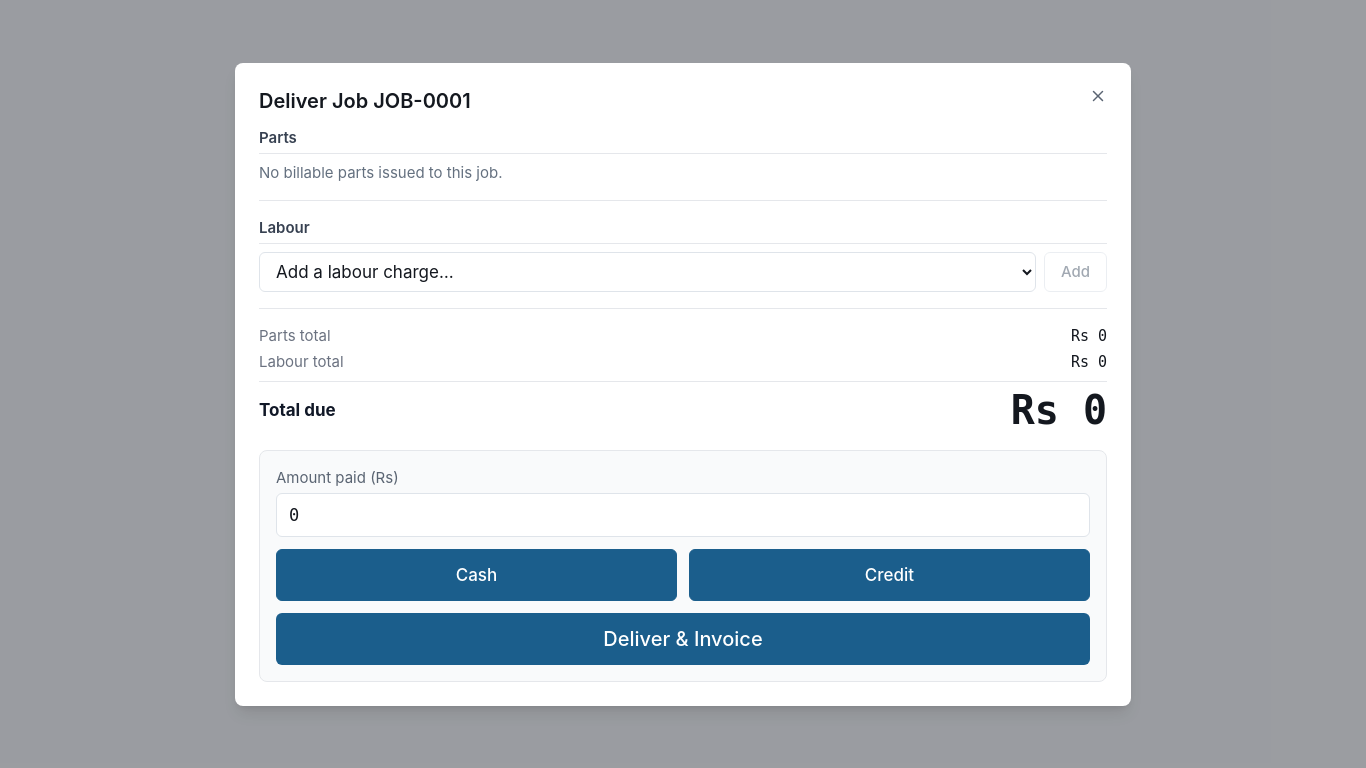
JobDeliveryModal (F3) › adding two labour charges shows both lines and the Labour total reflects both; removing one updates the total
Select "AC Installation — Rs 1,500" in the dropdown named "Add labour charge": point(647, 272) [259,252,1036,292]
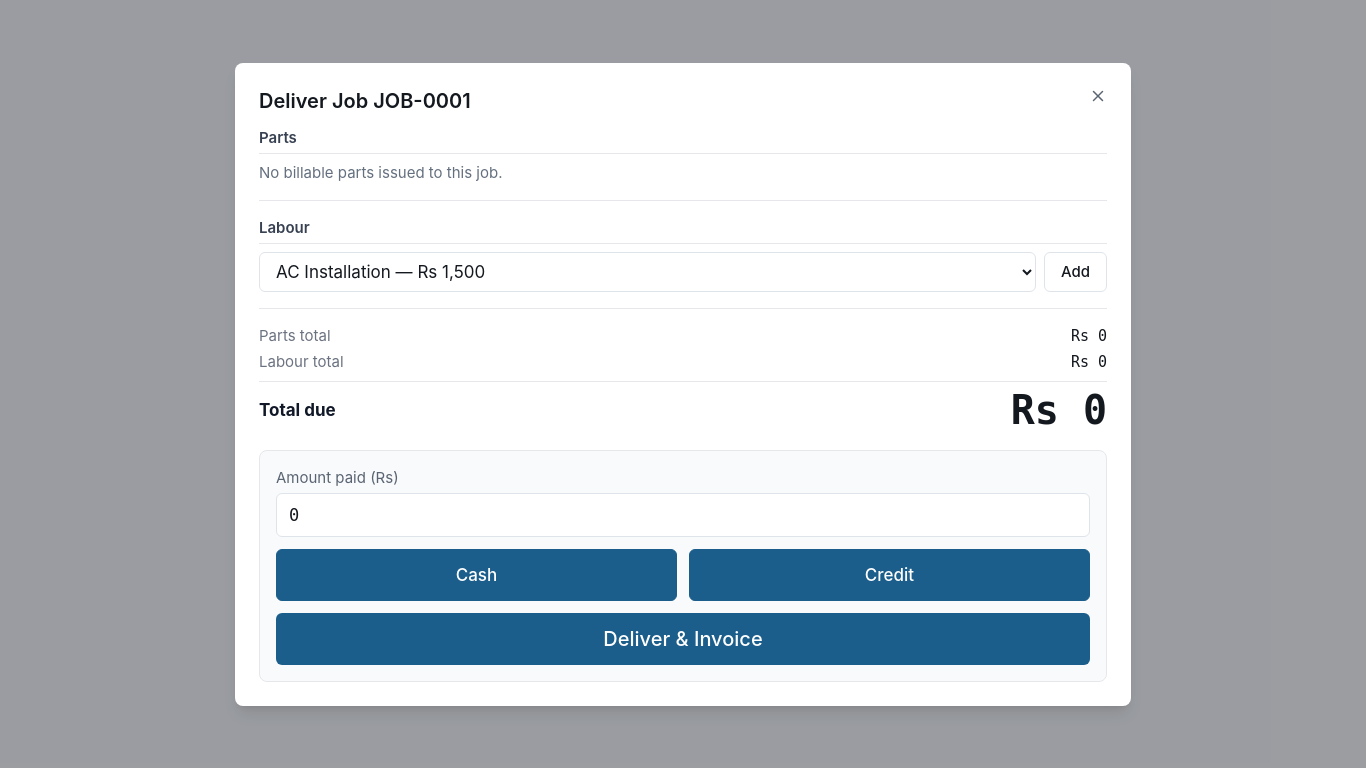
Click the button "Add": point(1075, 272) [1044,252,1107,292]
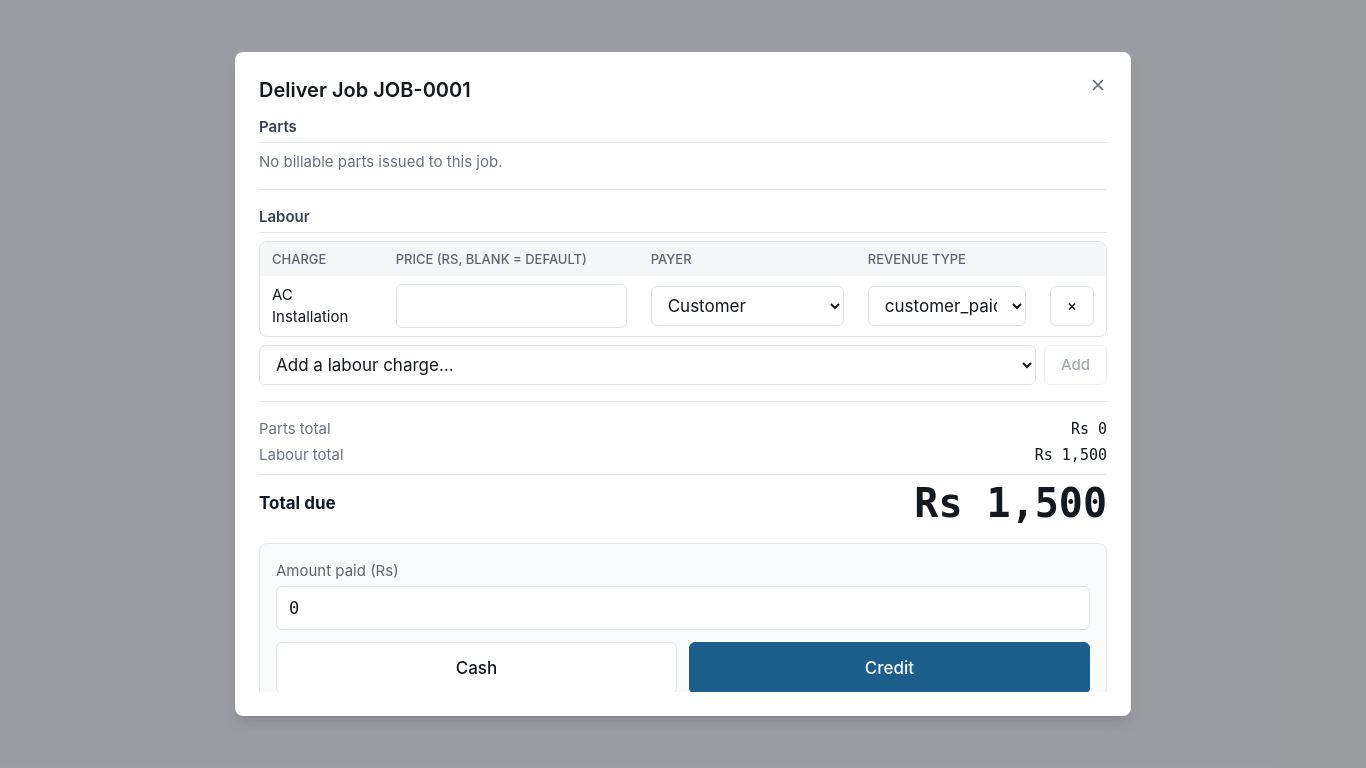
Select "Gas Charging — Rs 800" in the dropdown named "Add labour charge": point(647, 365) [259,345,1036,385]
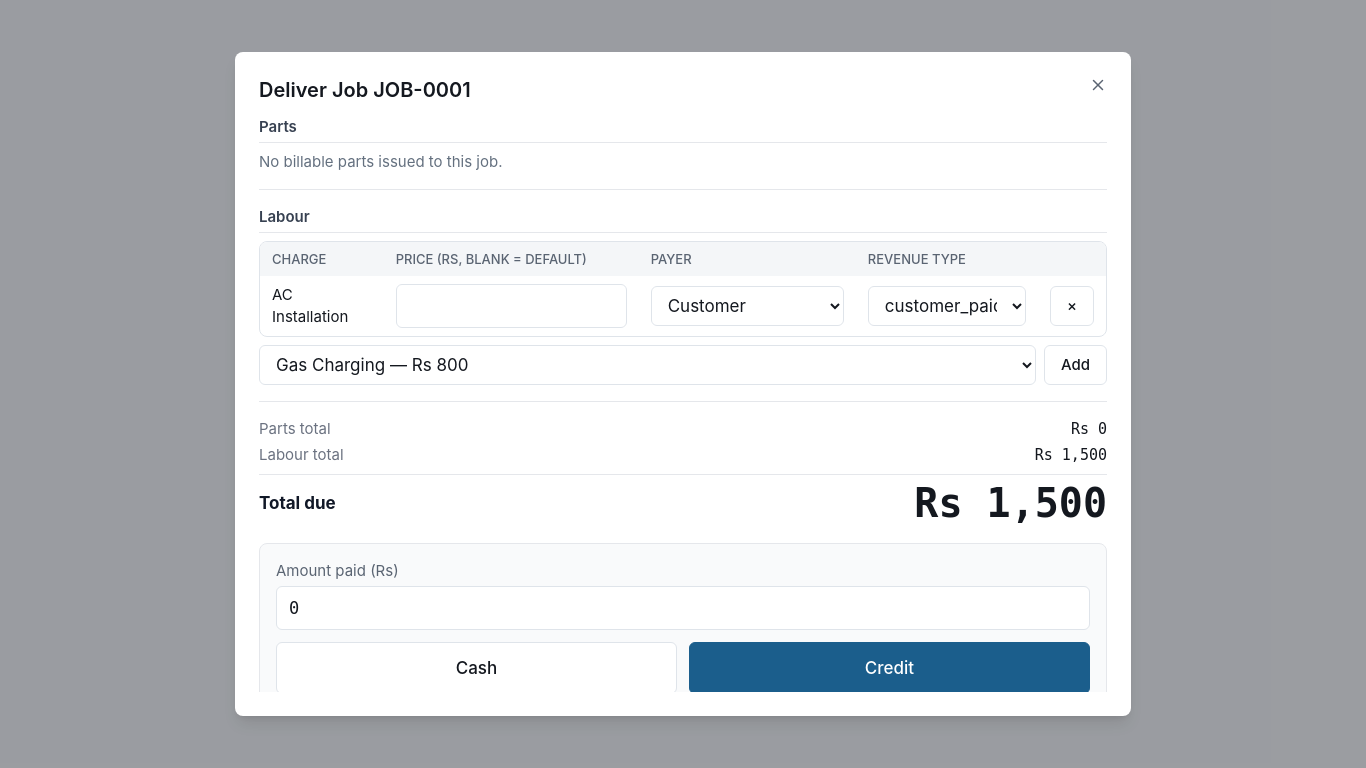
Click the button "Add": point(1075, 365) [1044,345,1107,385]
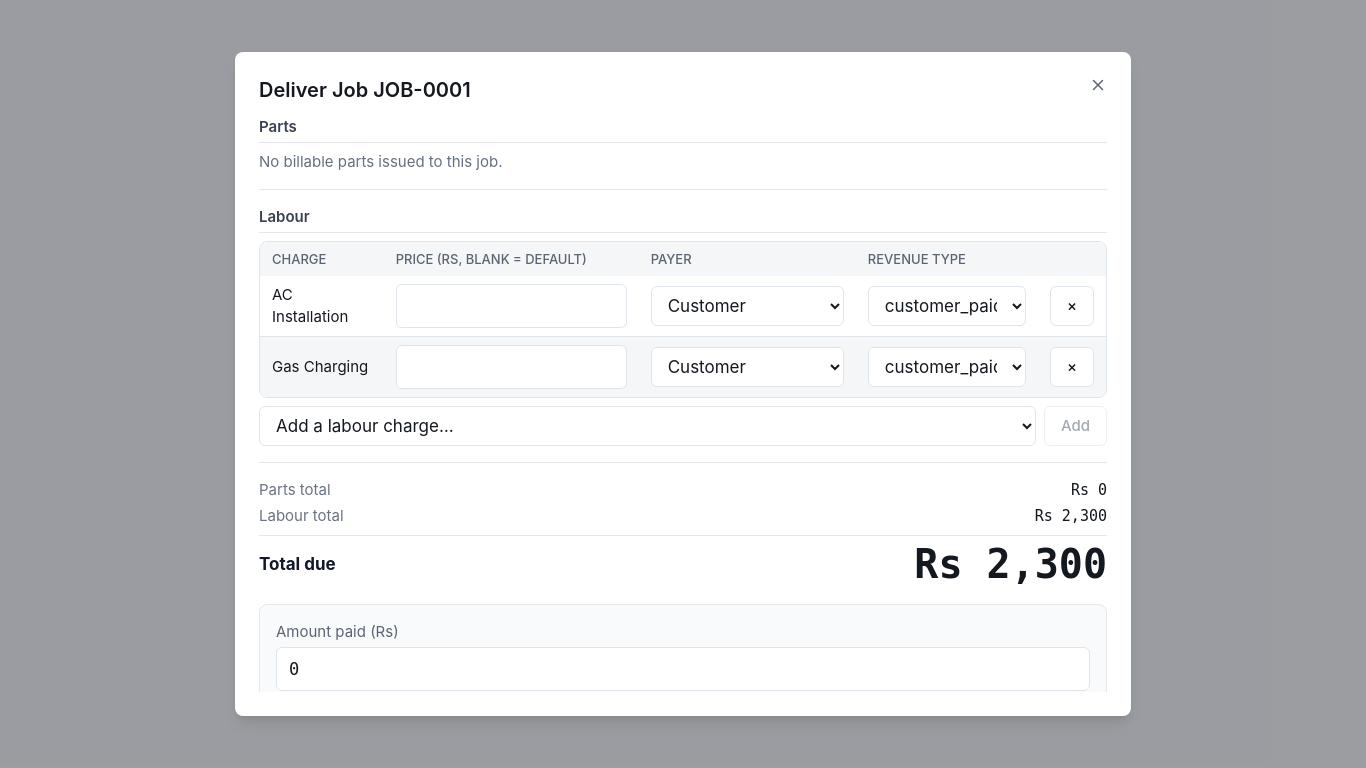
Expected: the cell "AC Installation" is shown, [260,276,384,336]
Expected: the cell "Gas Charging" is shown, [260,336,384,397]
Expected: the text "Rs 2,300" in the row of "Labour total" is shown, [1035,507,1107,525]
Click the button named "Remove AC Installation": point(1072, 306) [1050,286,1094,326]
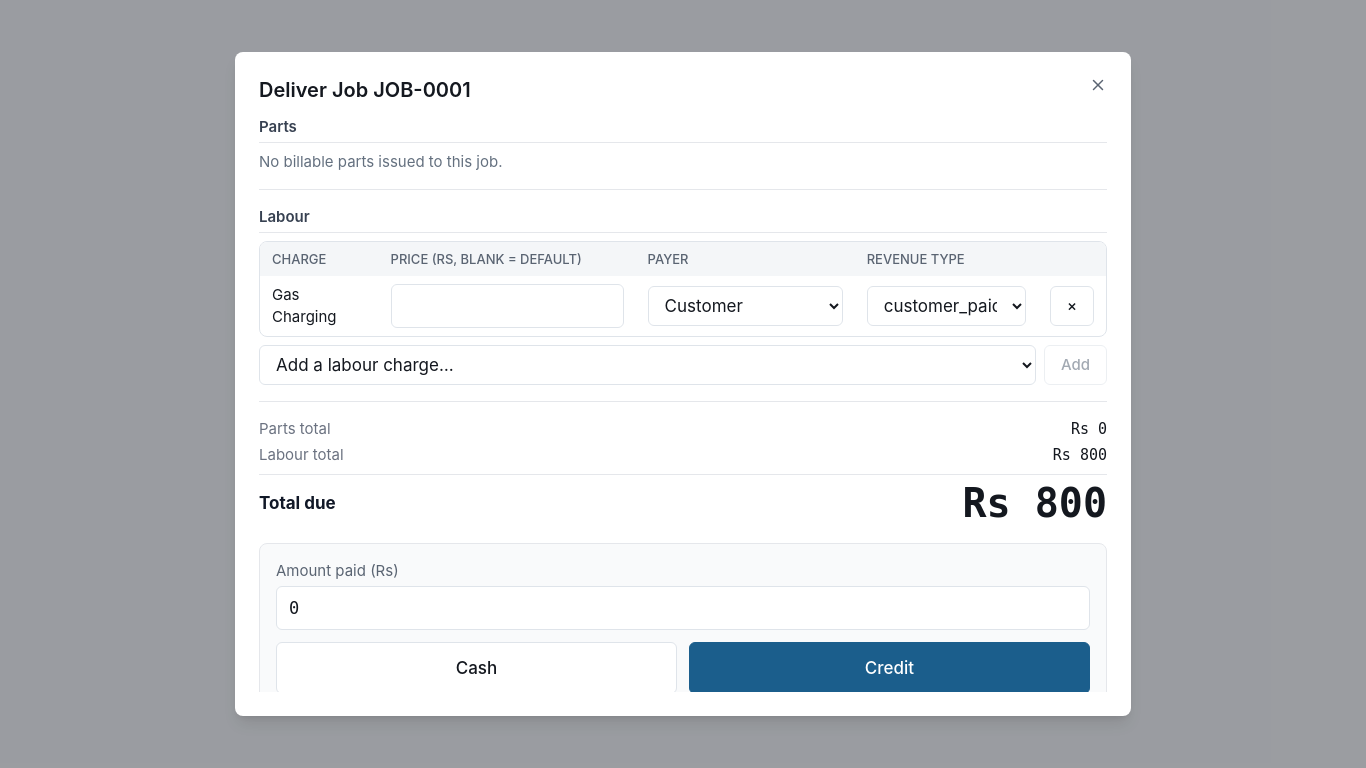
Expected: the cell "Gas Charging" is shown, [260,276,378,336]
Expected: the cell "AC Installation" is gone
Expected: the text "Rs 800" in the row of "Labour total" is shown, [1053,446,1107,464]
